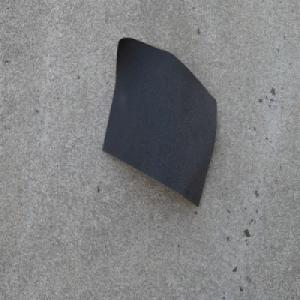PaintChip: (102, 36, 218, 207)
